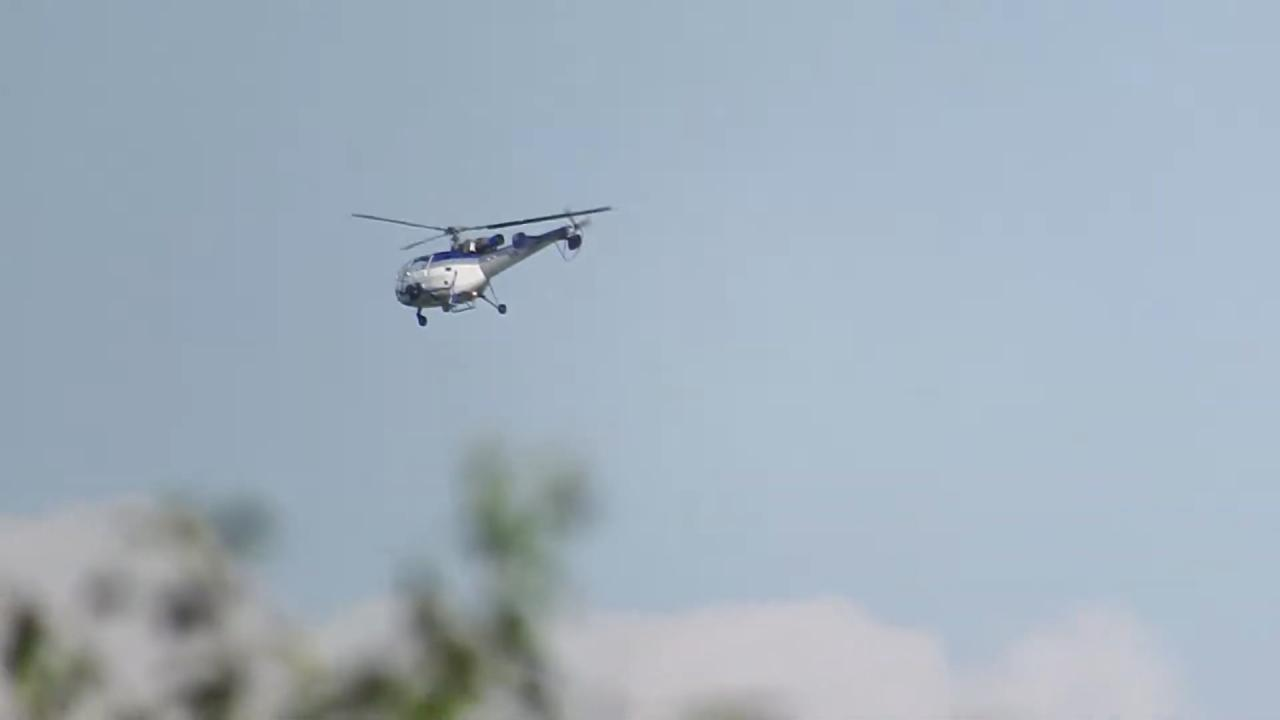Helicopter: (328, 164, 628, 352)
